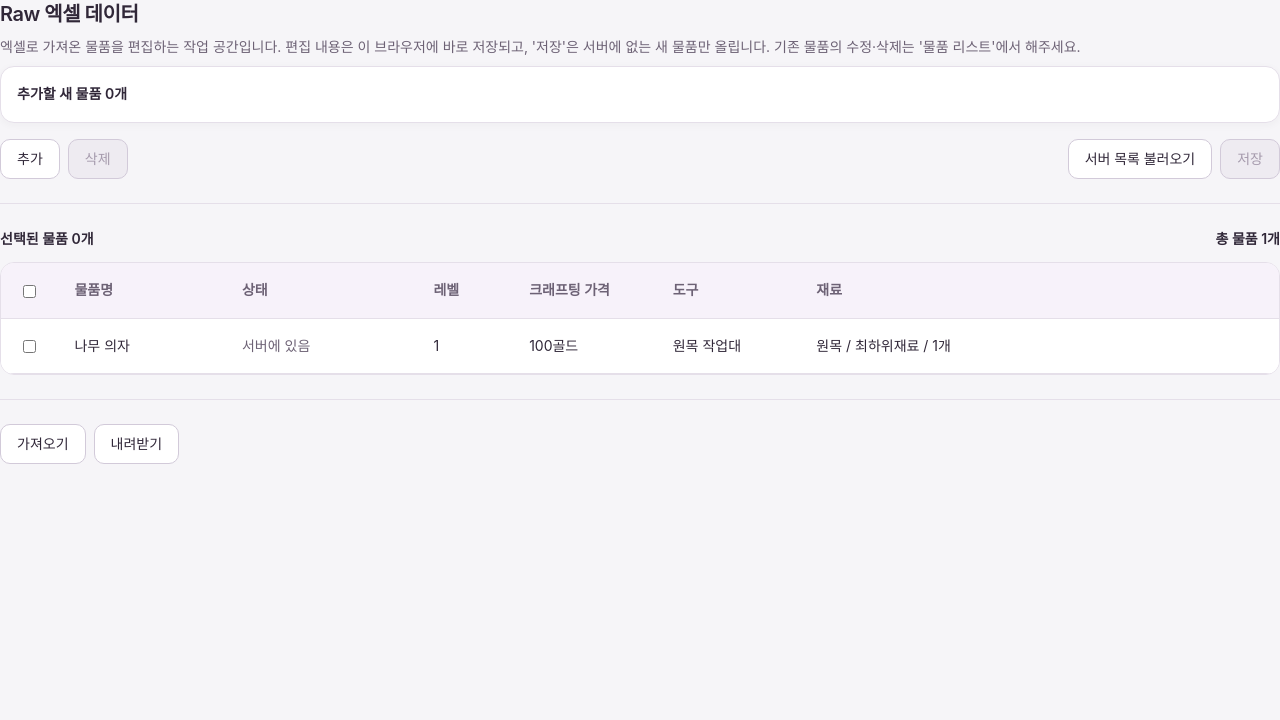
ManageHomePage › 행을 고치면 저장 버튼을 누르지 않아도 초안에 바로 남는다
Click the text "나무 의자" at (142, 346), box [58, 319, 226, 374]
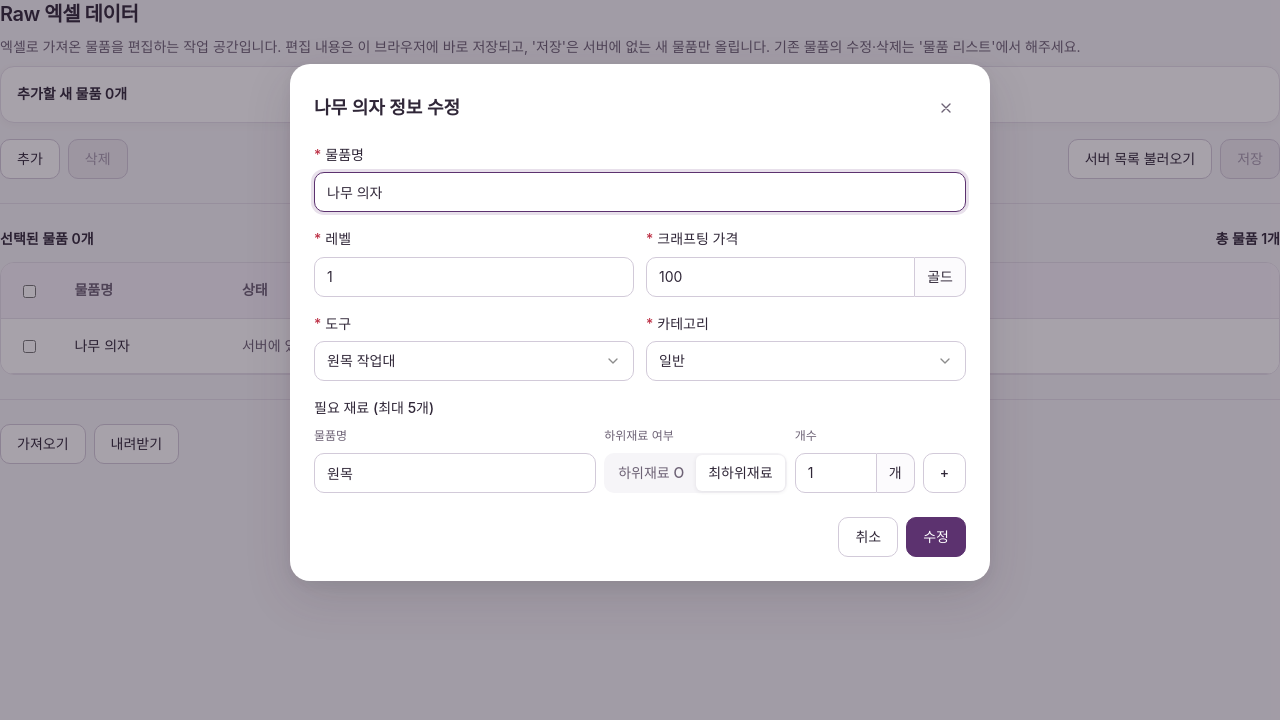
Replace the text in the number field labelled "레벨" with "5" at (474, 277), box [327, 258, 621, 296]
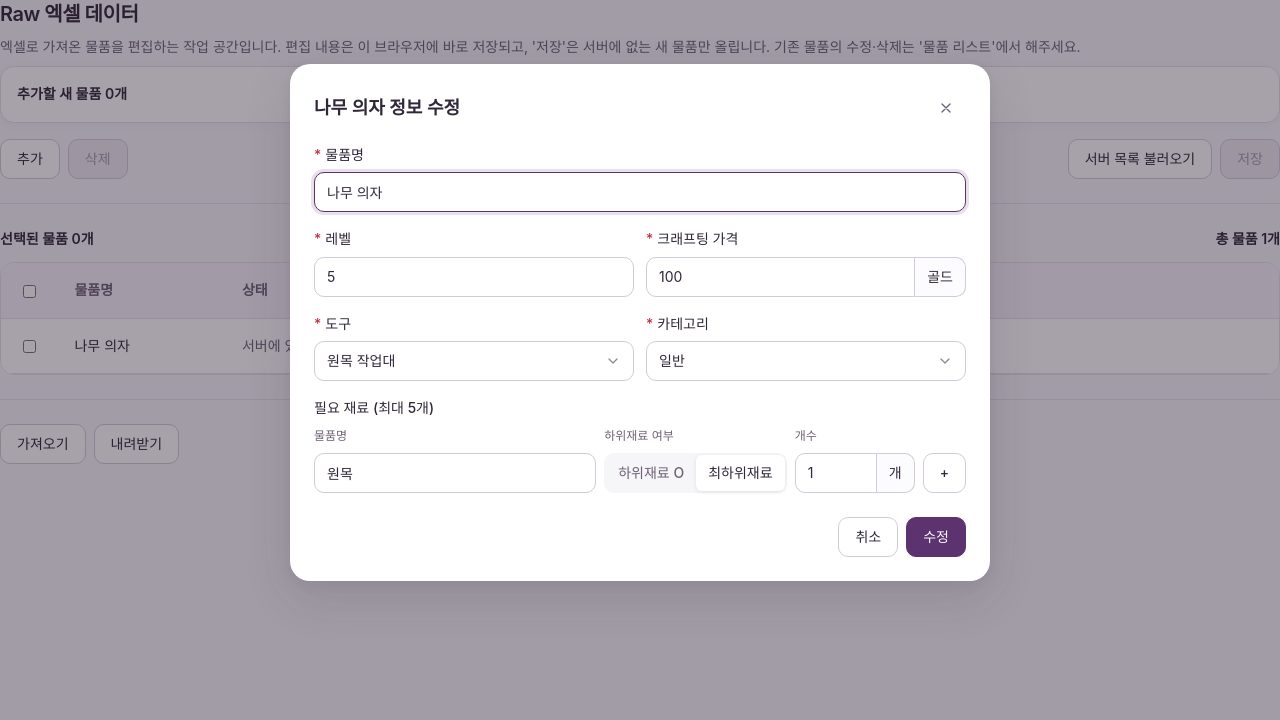
Click the button "수정" at (936, 537), box [906, 517, 966, 557]
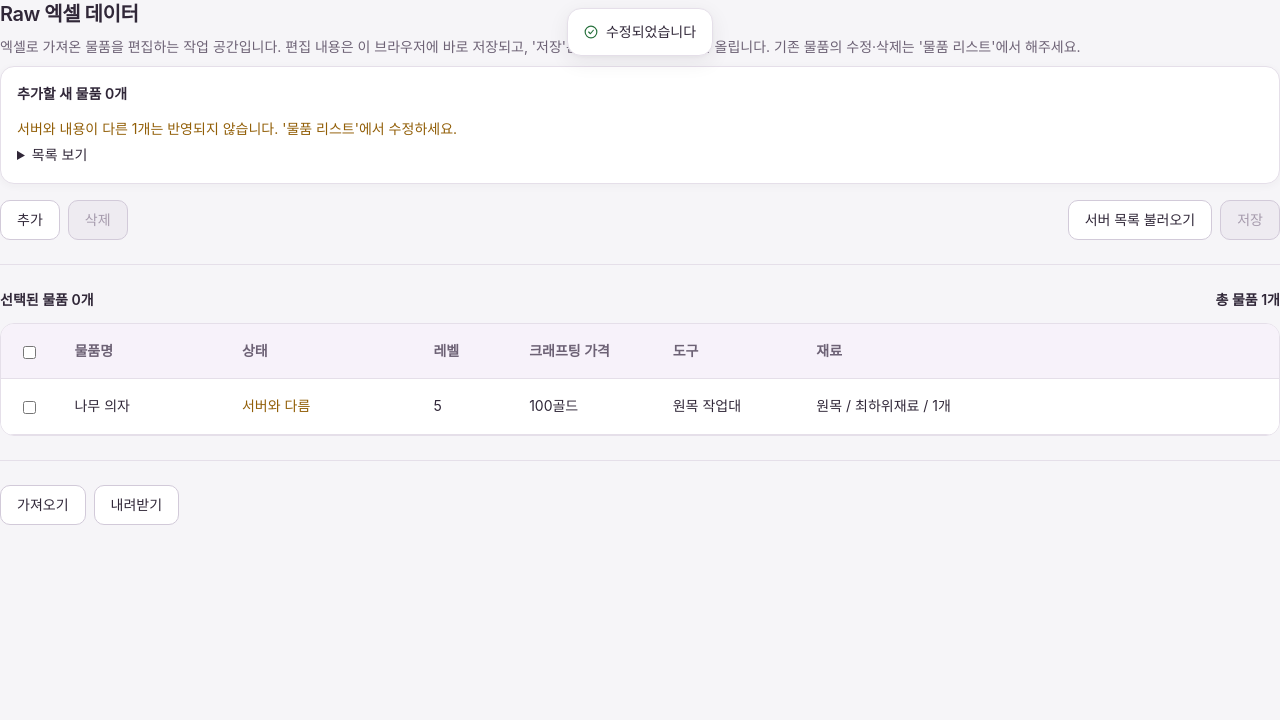
Expected: the text "서버와 다름" is shown, [242, 397, 310, 414]
Expected: the text "서버와 내용이 다른 1개는 반영되지 않습니다. '물품 리스트'에서 수정하세요." is shown, [17, 118, 457, 140]
